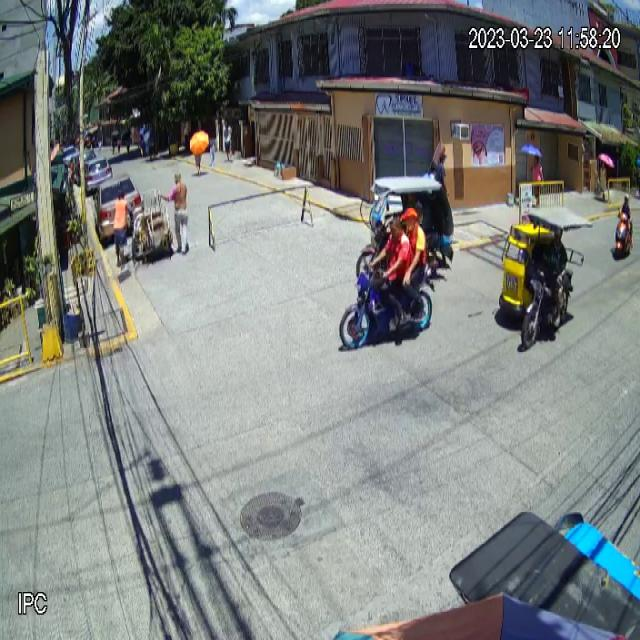Motorcycle: (340, 255, 445, 351)
Tricycle: (499, 204, 593, 350)
